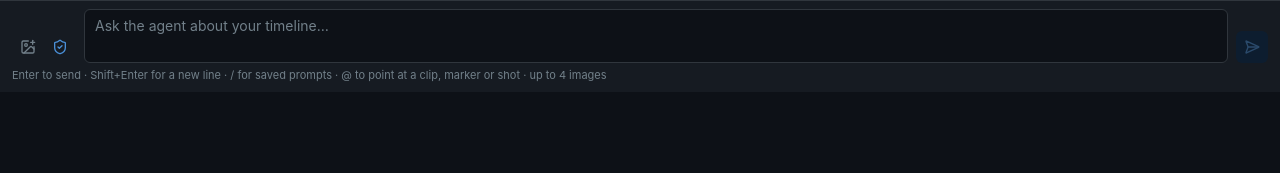
it: Composer › saved prompts (Phase 8h) › chooses with the arrows and puts the prompt in the box on Enter, its blank selected, without sending
In the text box named "Message the agent": (656, 36) 84,9 -> 1228,63, type "/"
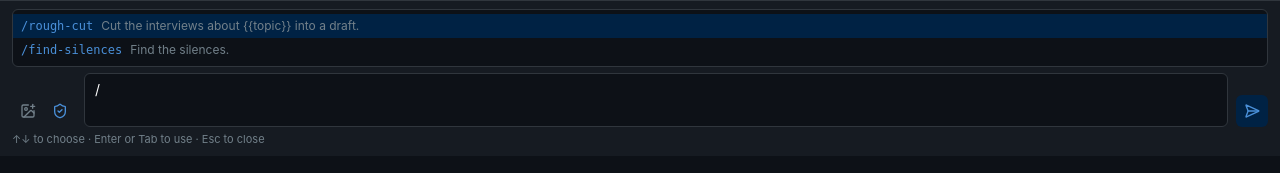
Press ArrowDown in the text box named "Message the agent", box 84,73 -> 1228,127
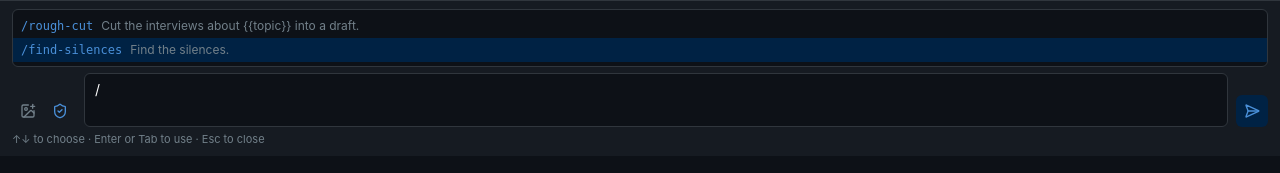
Press ArrowDown in the text box named "Message the agent", box 84,73 -> 1228,127
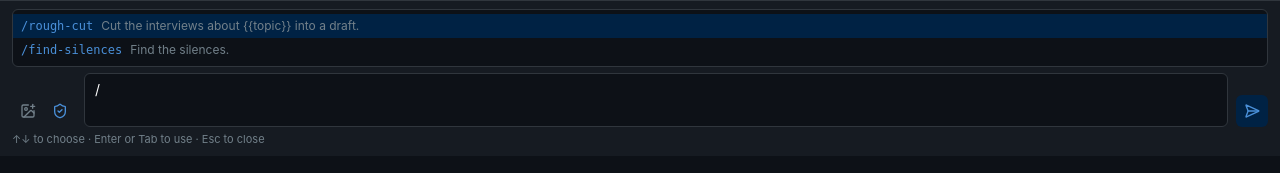
Now the option "/rough-cut Cut the interviews about {{topic}} into a draft." is selected, box 13,14 -> 1267,38
Press Enter in the text box named "Message the agent", box 84,73 -> 1228,127
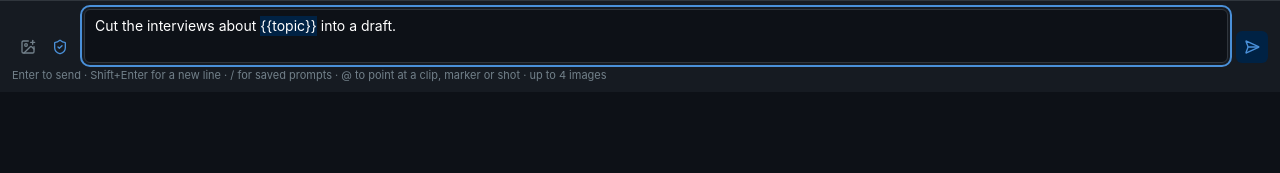
Now the text box named "Message the agent" holds "Cut the interviews about {{topic}} into a draft.", box 84,9 -> 1228,63
Now the list is gone
